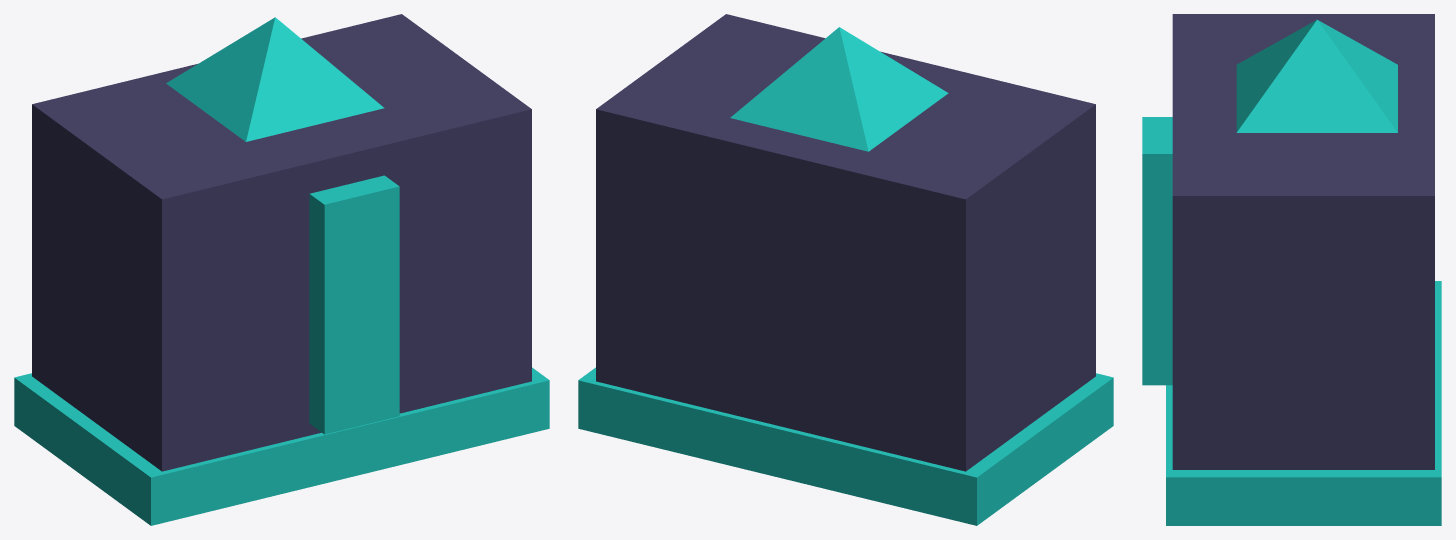
Rendered from chest-2.obj.
3 views of the same model, side by side, from view 1: azimuth 30°, elevation 25°; view 2: azimuth 150°, elevation 25°; view 3: azimuth 270°, elevation 25° (orthographic).
Size of the model in its own units: 0.69 by 0.67 by 0.445.
